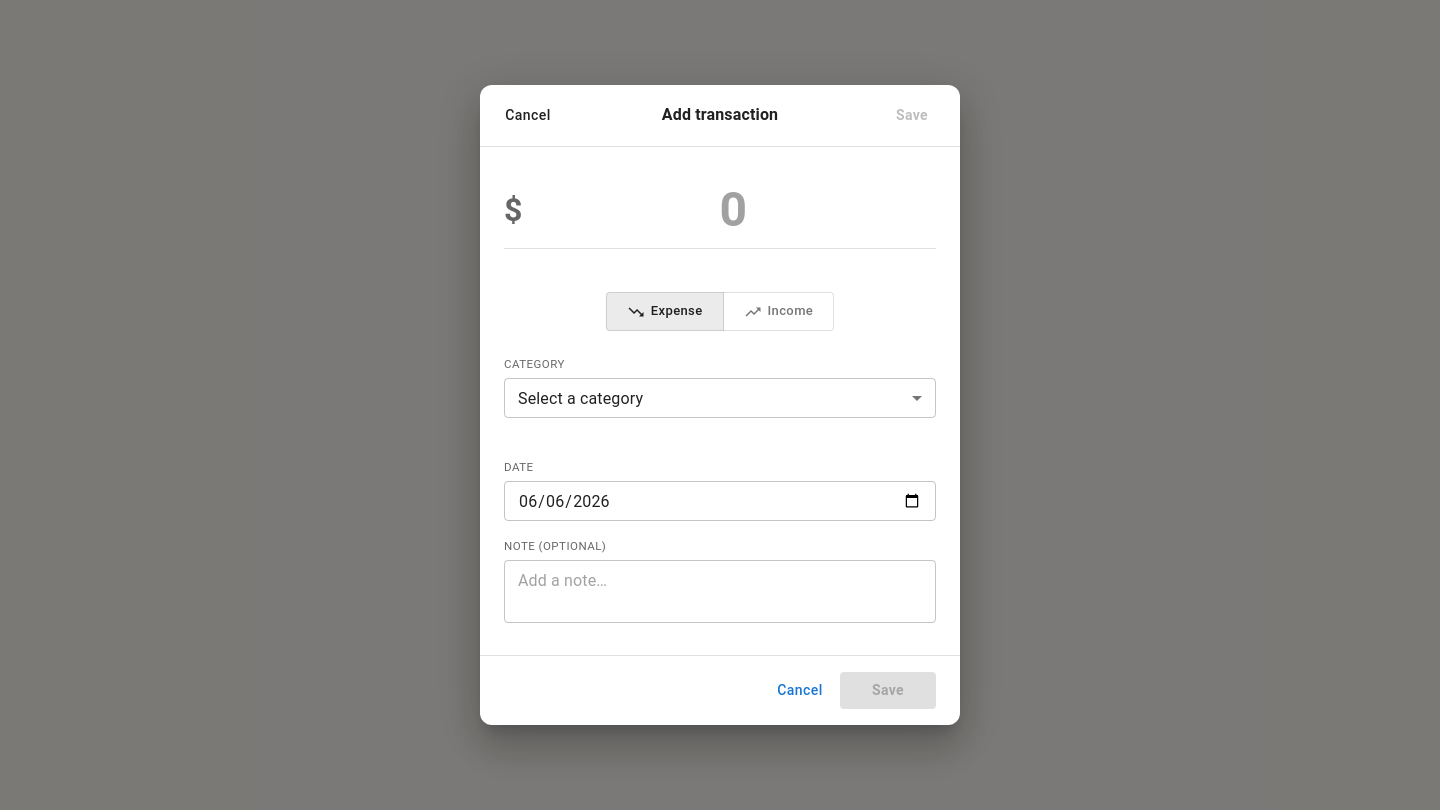
Scenario: AddTransactionSheet › shows submit error on failure (no rollback close)
This screenshot has width=1440, height=810.
Type "10" into the field named "Amount" at (733, 210), box [531,170,936,248]
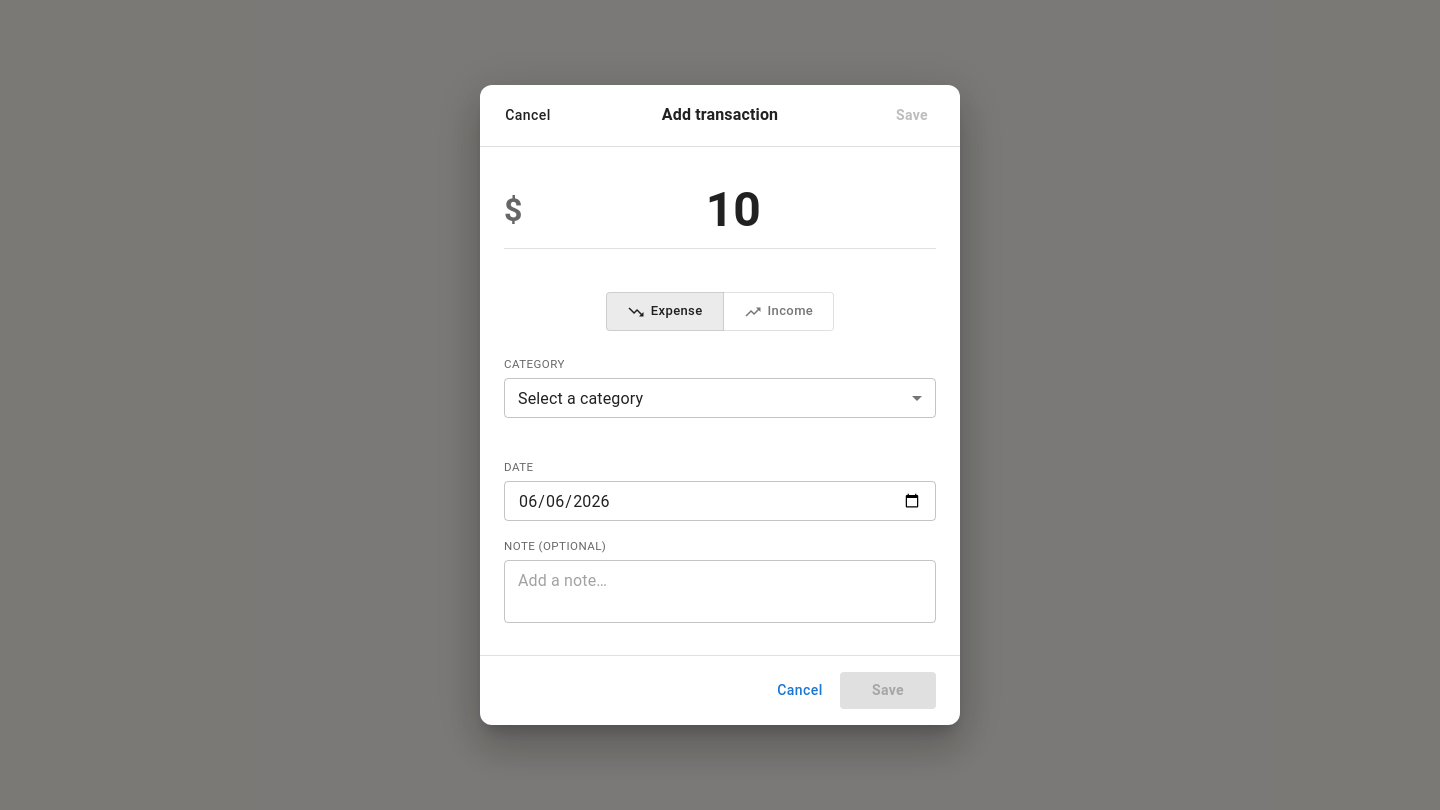
Select "Food & Drink" in the dropdown named "Category" at (720, 398), box [504,378,936,418]
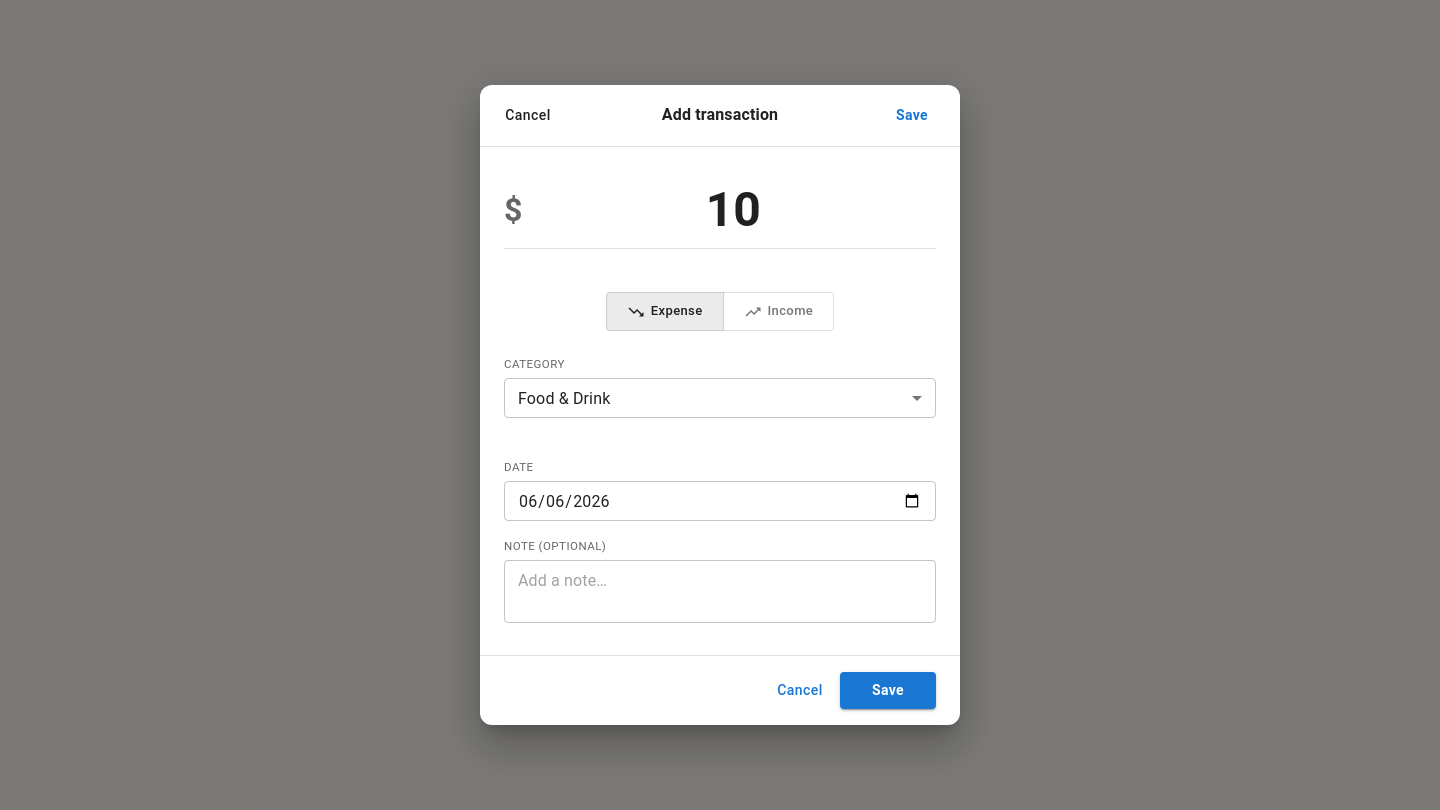
Click the button "Save" next to "Add transaction" at (912, 115), box [880,97,944,134]
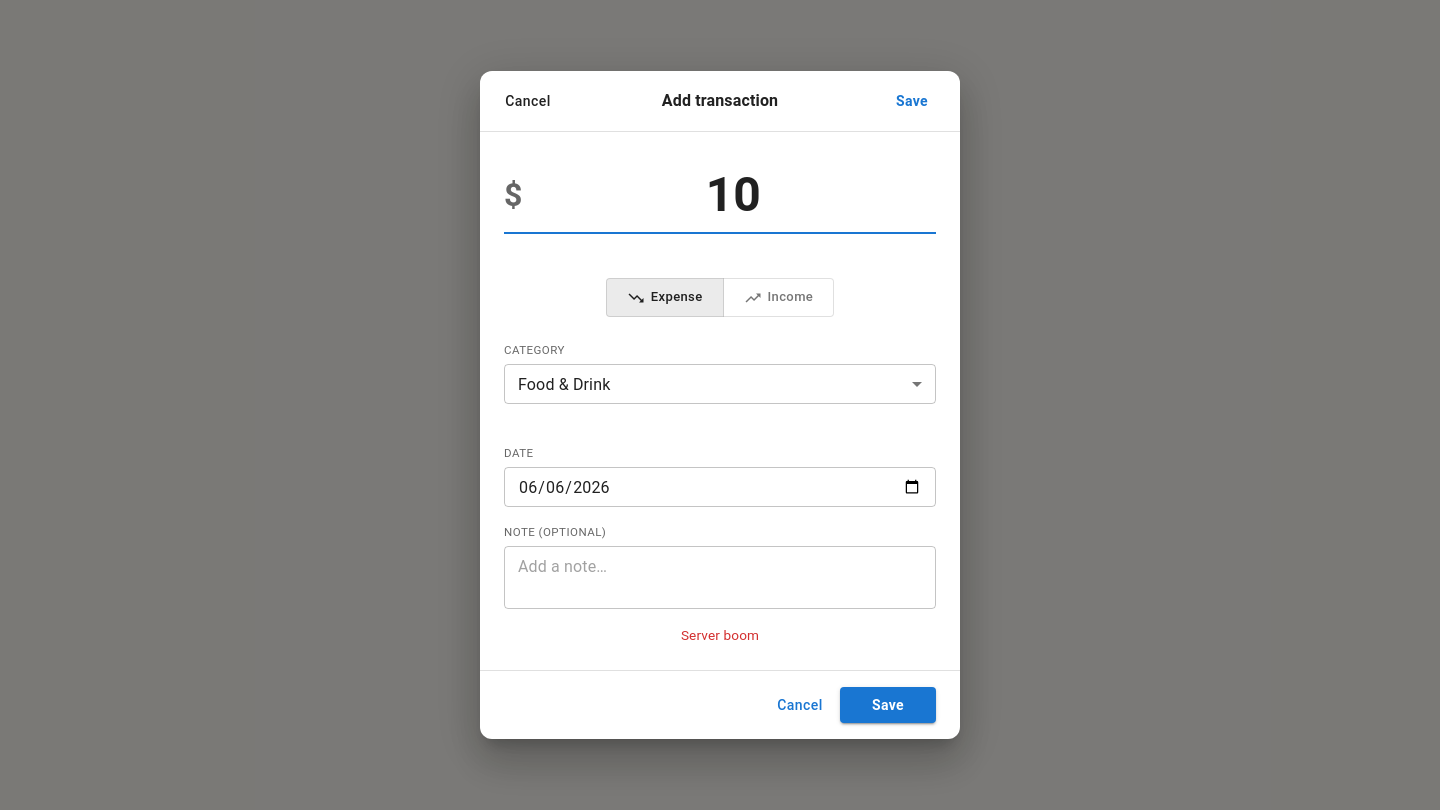
expect the text "Server boom" is shown: met, box [681,627,759,643]
